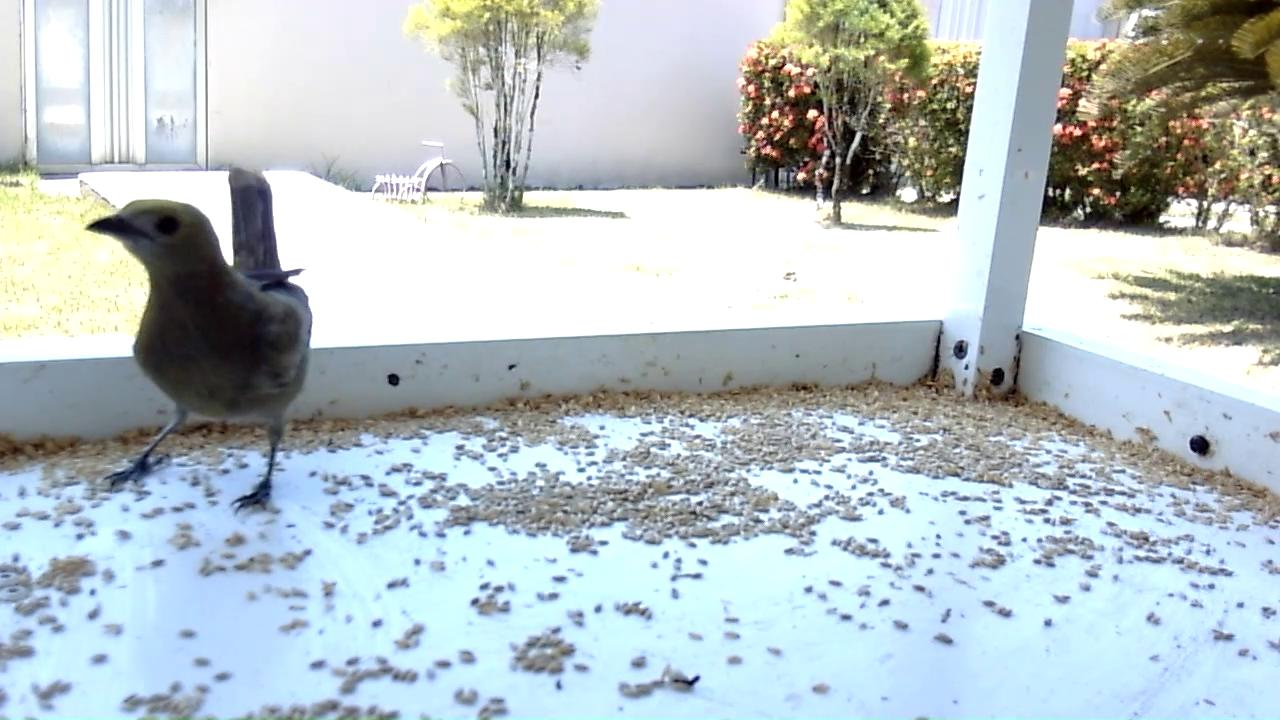sanhaco_do_coqueiro: (83, 164, 315, 522)
